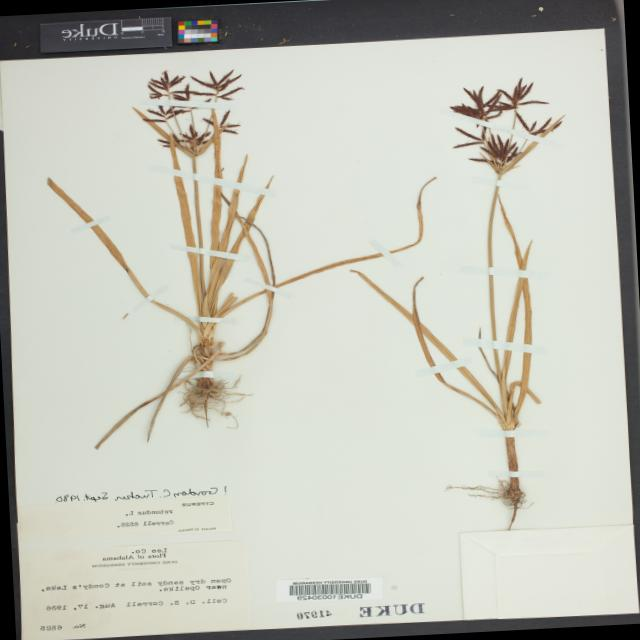cyperus: (452, 78, 575, 180), (134, 62, 252, 160)
